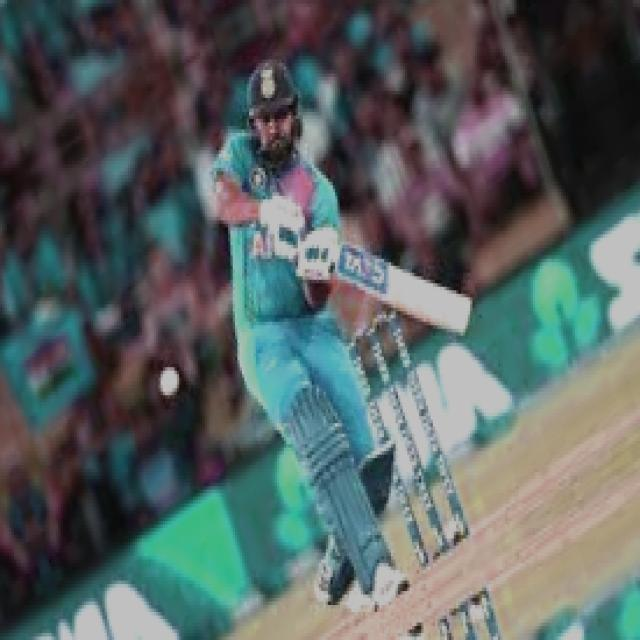toe: (459, 292, 474, 344)
